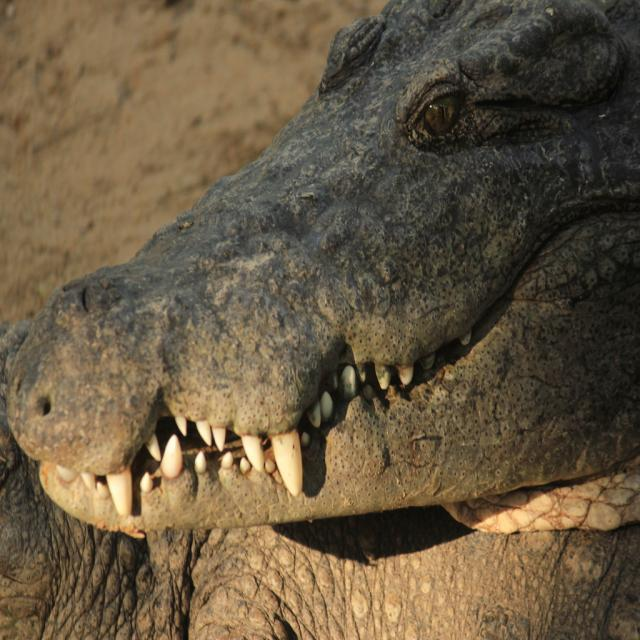crocodile: (7, 0, 639, 543)
